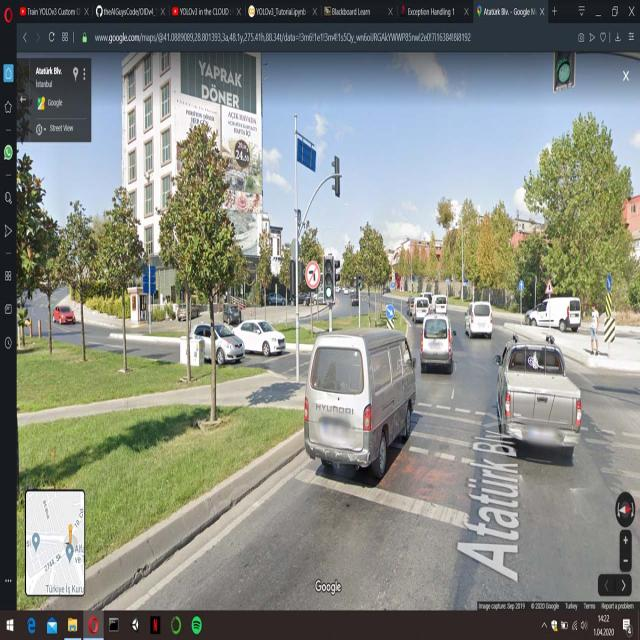soladonulmez: (306, 259, 318, 289)
yesil: (322, 255, 336, 301)
